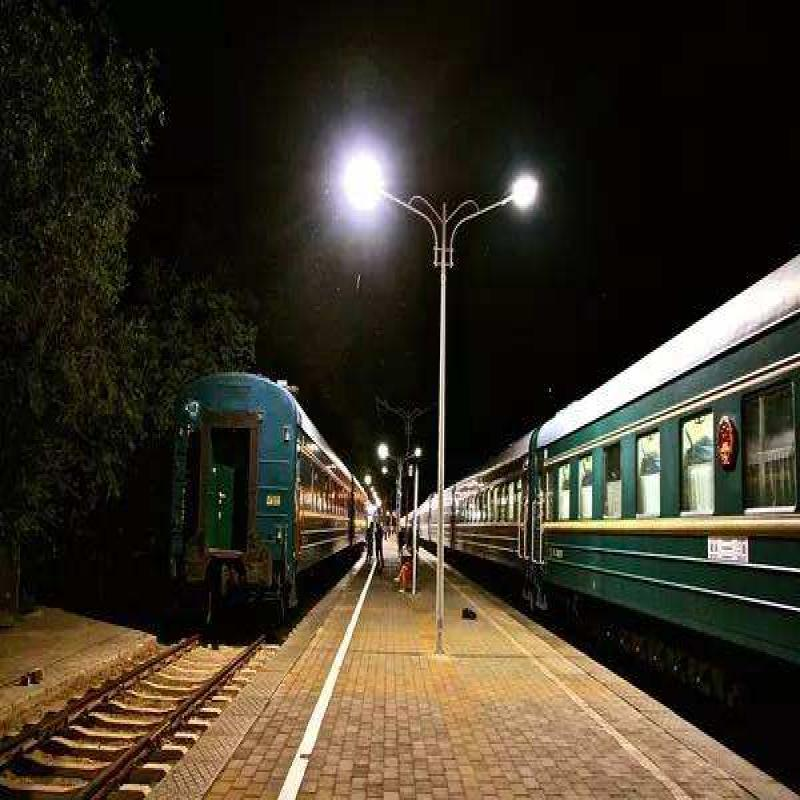train: (486, 309, 800, 613)
